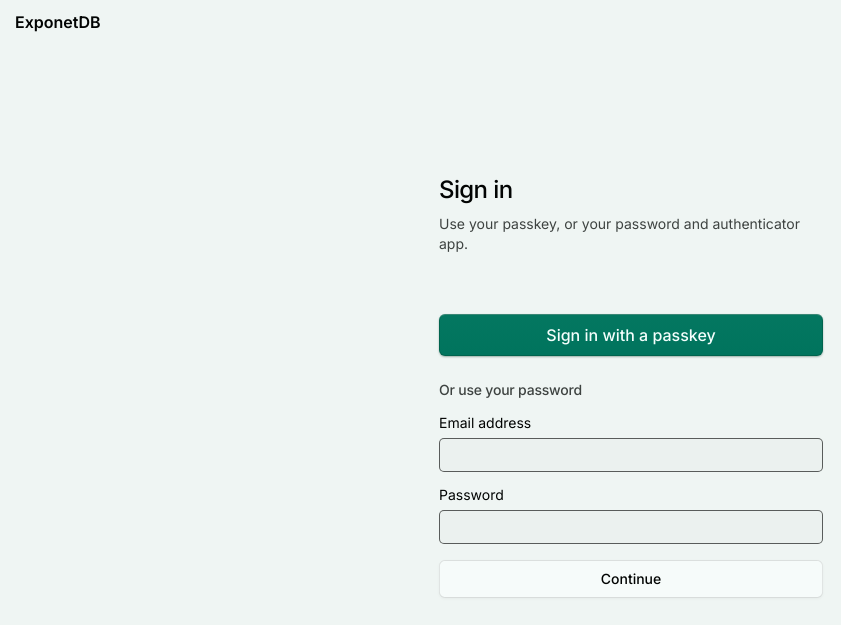
the sign-in page › shows the catalog message and code of a refused passkey, never exception text
Click the button "Sign in with a passkey".
click(631, 335)  # box [439,314,823,356]
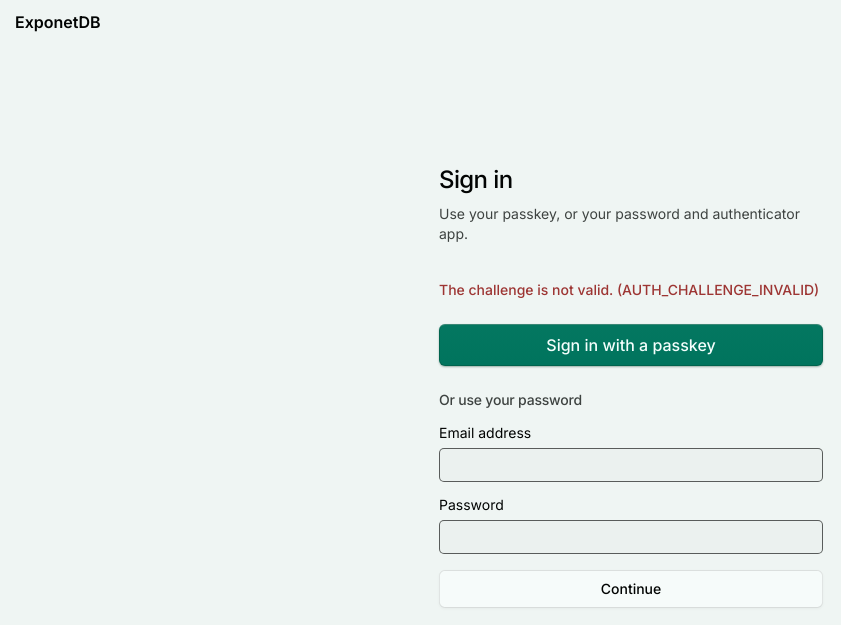
Result: the message with class "alert" reads "The challenge is not valid. (AUTH_CHALLENGE_INVALID)" at [439,281,819,298]
Click the button "Sign in with a passkey".
click(631, 345)  # box [439,324,823,366]
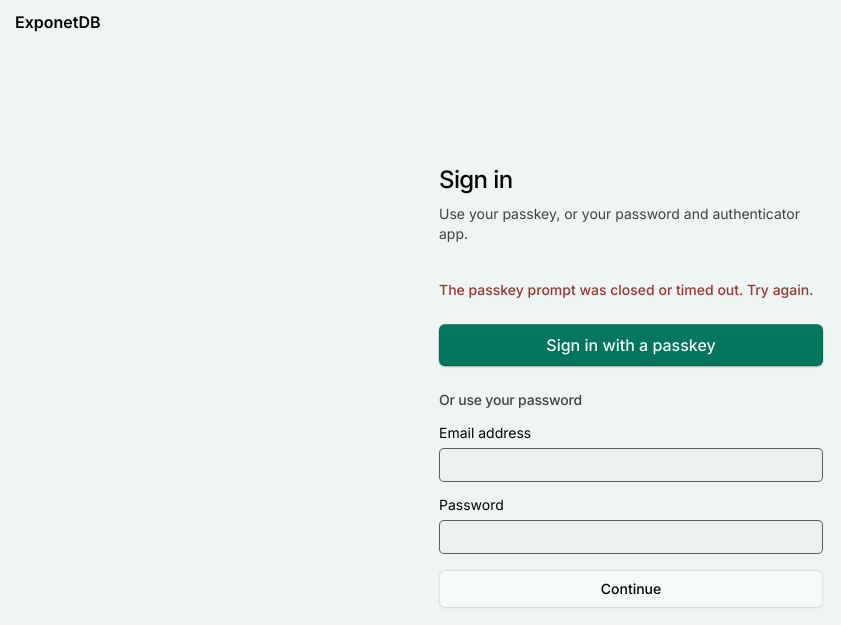
Result: the message with class "alert" reads "The passkey prompt was closed or timed out. Try again." at [439,281,813,298]
